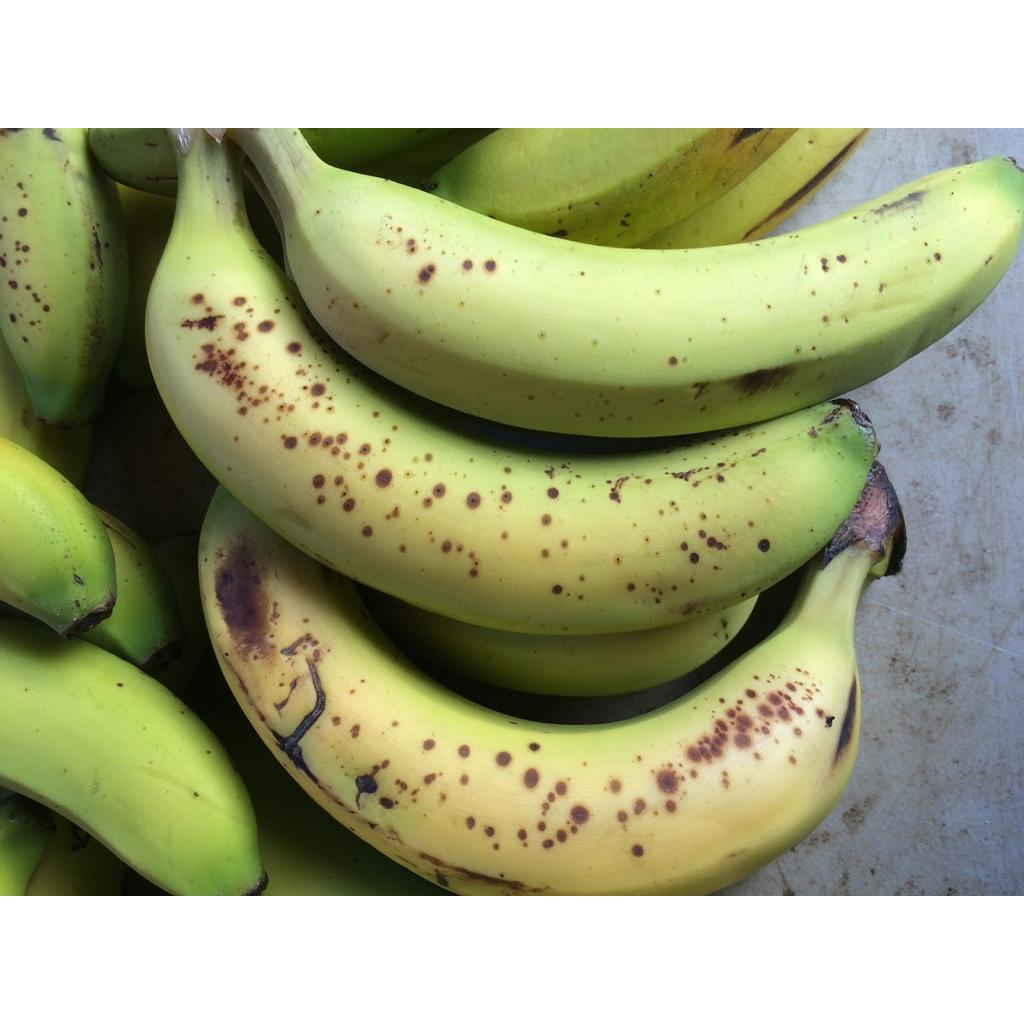banana: (142, 128, 878, 638), (195, 468, 900, 896), (259, 128, 1024, 441)
